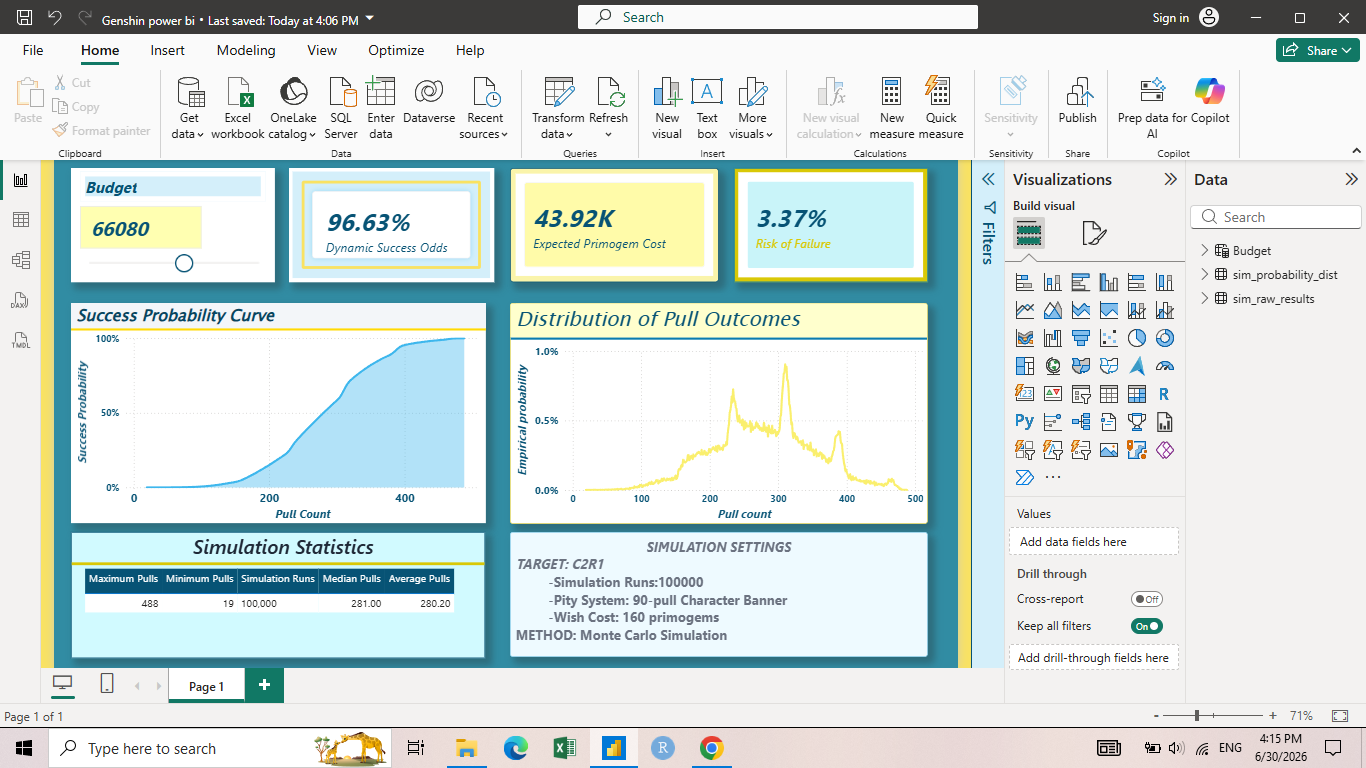

This screenshot's page, from the dashboard's own definition file:
{"tool":"powerbi","page":{"name":"Page 1","canvas":[1280,720],"ordinal":0},"visuals":[{"type":"slicer","fields":{"Values":["Budget.Budget"]},"box":[9.9,11.3,289.1,161.6],"z":0},{"type":"cardVisual","fields":{"Data":["Budget.Dynamic Success Odds"]},"box":[320.8,11.8,290.6,161.3],"z":1000},{"type":"stackedAreaChart","title":"Success Probability Curve","fields":{"Category":["sim_probability_dist.pulls_spent"],"Y":["Avg(sim_probability_dist.cumulative_probability)"]},"box":[23.5,203.3,587.9,312.4],"z":2000},{"type":"lineChart","title":"Distribution of Pull Outcomes","fields":{"Category":["sim_probability_dist.pulls_spent"],"Y":["Avg(sim_probability_dist.empirical_probability)"]},"box":[646.7,203.3,581.2,312.4],"z":3000},{"type":"cardVisual","fields":{"Data":["Budget.Average Cost"]},"box":[640,11.8,297.3,161.3],"z":4001},{"type":"cardVisual","fields":{"Data":["Budget.Failure Risk"]},"box":[963.8,11.3,304.7,161.6],"z":4002},{"type":"textbox","title":"Simulation Settings","box":[646.3,527.2,592.4,177.2],"z":4003},{"type":"tableEx","title":"Simulation Statistics","fields":{"Values":["Budget.Maximum Pulls","Budget.Minimum Pulls","Budget.Simulation Runs","Budget.Median Pulls","Budget.Average Pulls"]},"box":[23.5,539.2,587.9,166.3],"z":4004}]}

Visuals, with their boxes on the page's 1280x720 design canvas (x1, y1, x2, y2). These are canvas units, not pixel positions in the 1366x768 screenshot, which may show the page scaled, cropped or inside an application window:
slicer - Budget.Budget: [10, 11, 299, 173]
cardVisual - Budget.Dynamic Success Odds: [321, 12, 611, 173]
"Success Probability Curve" stackedAreaChart: [24, 203, 611, 516]
"Distribution of Pull Outcomes" lineChart: [647, 203, 1228, 516]
cardVisual - Budget.Average Cost: [640, 12, 937, 173]
cardVisual - Budget.Failure Risk: [964, 11, 1268, 173]
"Simulation Settings" textbox: [646, 527, 1239, 704]
"Simulation Statistics" tableEx: [24, 539, 611, 706]
